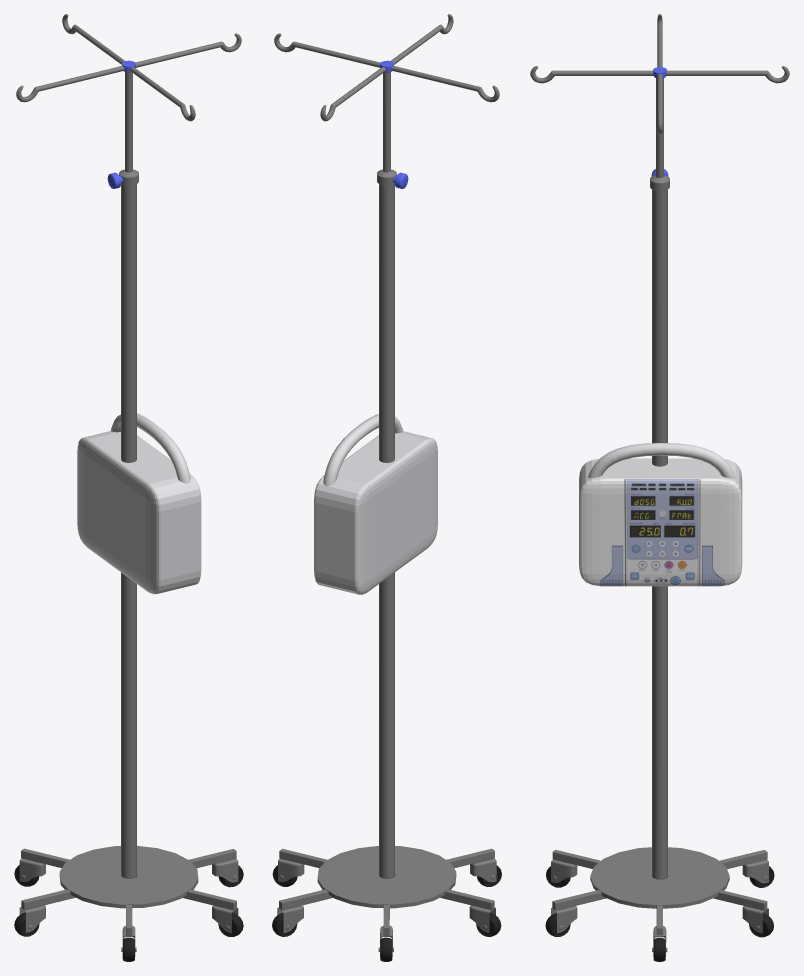
Rendered from BSB04.fbx.
The picture shows the model from 3 angles, left to right: view 1: azimuth 30°, elevation 25°; view 2: azimuth 150°, elevation 25°; view 3: azimuth 270°, elevation 25°; orthographic projection.
Visible parts, largest first — view 1: BSB04; view 2: BSB04; view 3: BSB04.
Boxes of the visible parts, bbox=[...] form: BSB04: bbox=[14, 14, 243, 961]; BSB04: bbox=[272, 14, 501, 961]; BSB04: bbox=[530, 14, 789, 961].
Bounding box in the file's own units: 50 × 180 × 50.
Materials: 5 (1 with a texture image).
